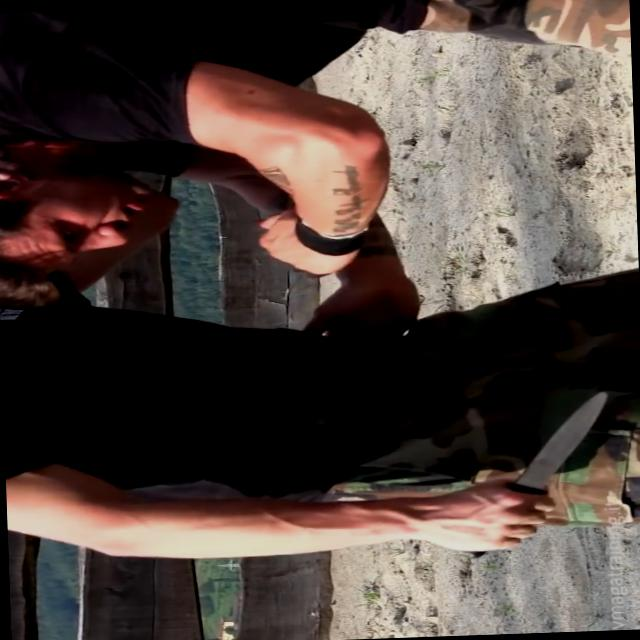knife: (444, 386, 626, 562)
